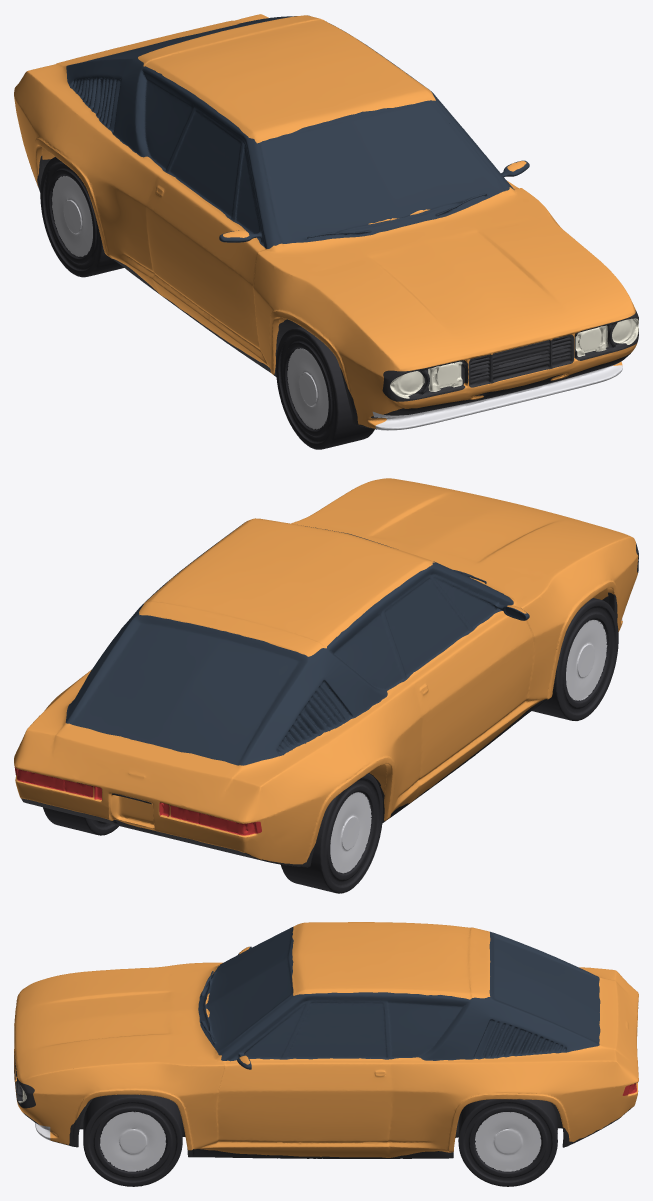
Rendered from r17.before-paint-20261110-202051.glb.
The picture shows the model from 3 angles, top to bottom: view 1: azimuth 30°, elevation 25°; view 2: azimuth 150°, elevation 25°; view 3: azimuth 270°, elevation 25°; orthographic projection. The views are drawn at different scales.
Visible parts, largest first — view 1: Body, Wheel_FR, Wheel_RR; view 2: Body, Wheel_RR, Wheel_FR, Wheel_RL; view 3: Body, Wheel_FL, Wheel_RL.
Boxes of the visible parts, x1,y1,x2,y2 form: Body: (14, 14, 638, 430); Wheel_FR: (275, 326, 374, 449); Wheel_RR: (40, 157, 123, 277); Body: (14, 478, 638, 867); Wheel_RR: (281, 773, 383, 893); Wheel_FR: (532, 598, 618, 720); Wheel_RL: (43, 807, 118, 835); Body: (14, 922, 638, 1158); Wheel_FL: (83, 1094, 182, 1186); Wheel_RL: (458, 1099, 557, 1186).
Bounding box in the file's own units: 1.81 × 1.27 × 4.
